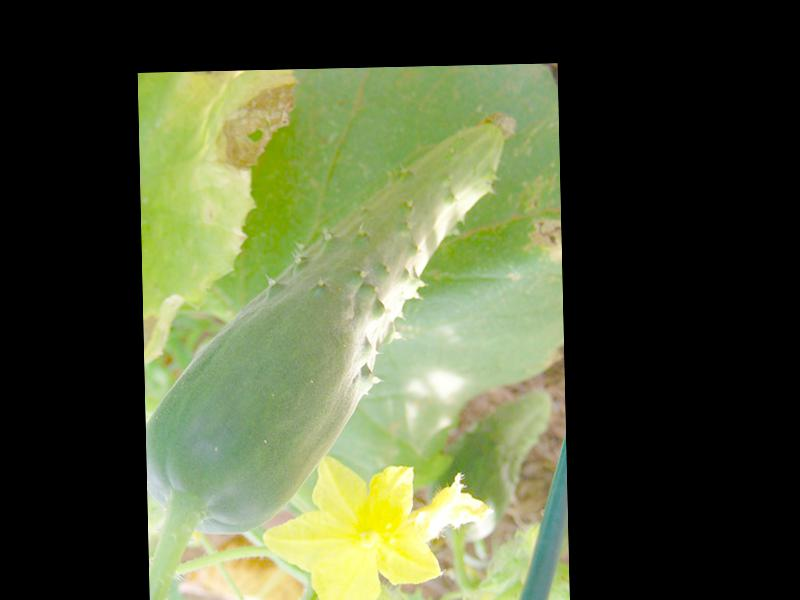Cucumber: (140, 112, 525, 535)
